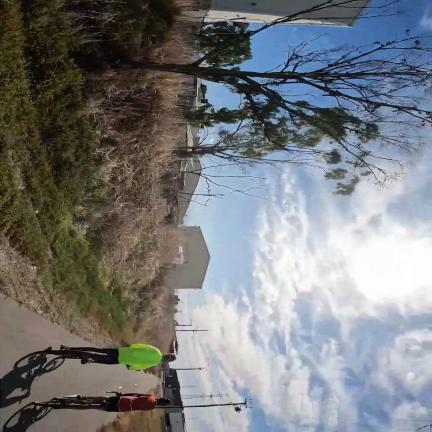Bike_Lane: (0, 299, 158, 426), (29, 411, 113, 432)
